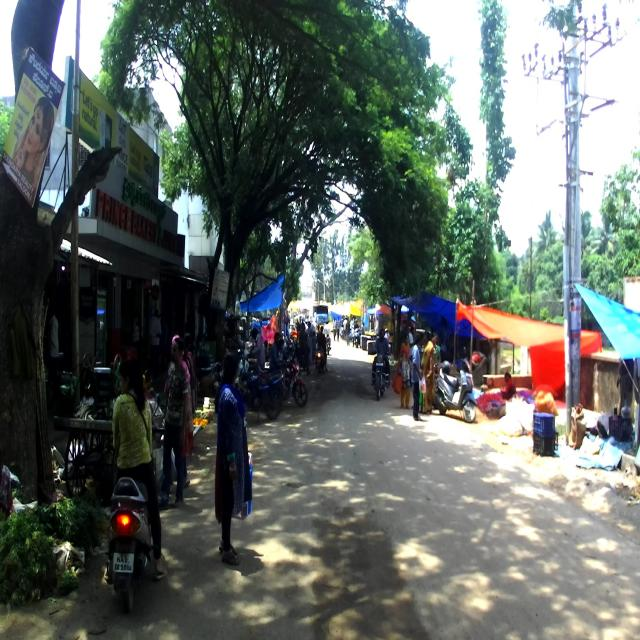motorcycle: (235, 351, 287, 418)
scooter: (107, 388, 163, 612), (435, 346, 477, 423)
